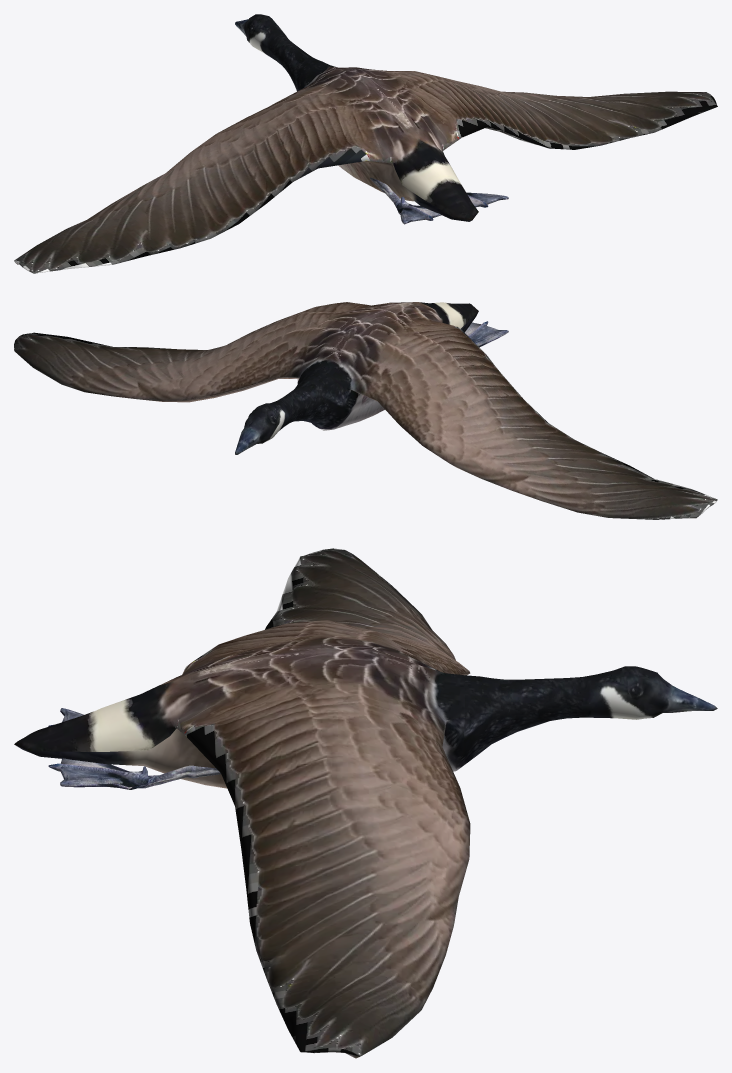
The model's file is goose_fly.glb.
3 views of the same model, one above another, from view 1: azimuth 30°, elevation 25°; view 2: azimuth 150°, elevation 25°; view 3: azimuth 270°, elevation 25° (orthographic). The views are drawn at different scales.
Visible parts, largest first — view 1: gooseFly; view 2: gooseFly; view 3: gooseFly.
Boxes of the visible parts, x1,y1,x2,y2 form: gooseFly: [14, 14, 717, 273]; gooseFly: [14, 302, 717, 519]; gooseFly: [14, 548, 717, 1058].
Bounding box in the file's own units: 1.6 × 0.2437 × 0.9507.
1 material, 1 textured.
